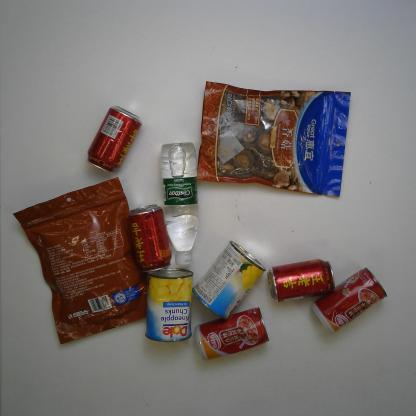Canned Food: (192, 240, 268, 320), (309, 267, 388, 334), (194, 306, 270, 361), (144, 266, 195, 343)
Dried Food: (11, 176, 148, 347), (196, 79, 352, 199)
Drink: (159, 140, 200, 267), (86, 104, 143, 174), (127, 203, 173, 274), (268, 258, 336, 303)
